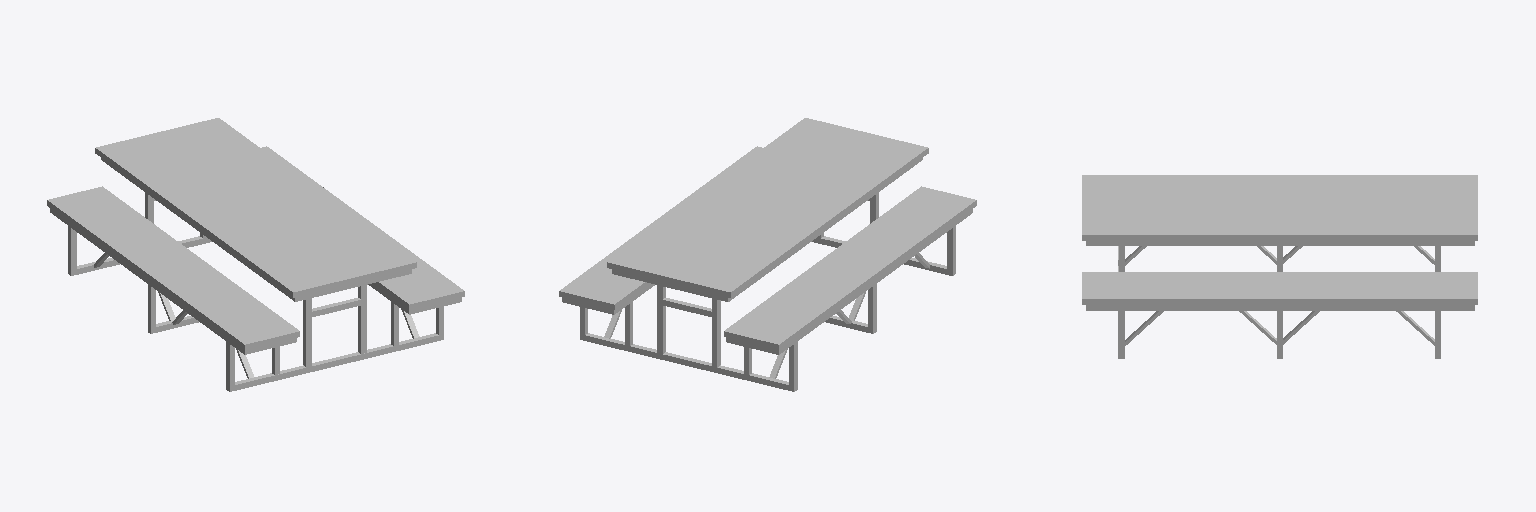
The model's file is CafeteriaTables.obj.
3 renders of one model, left to right at view 1: azimuth 30°, elevation 25°; view 2: azimuth 150°, elevation 25°; view 3: azimuth 270°, elevation 25°, orthographic.
Visible parts, largest first — view 1: pCube8, pCube10, pCube9, pCube26, pCube21, pCube22; view 2: pCube8, pCube10, pCube9, pCube25, pCube19, pCube20; view 3: pCube8, pCube9.
Boxes of the visible parts, x1=… form: pCube8: x1=95, y1=118, x2=416, y2=301; pCube10: x1=47, y1=186, x2=299, y2=354; pCube9: x1=261, y1=146, x2=464, y2=314; pCube26: x1=235, y1=333, x2=439, y2=390; pCube21: x1=303, y1=298, x2=311, y2=367; pCube22: x1=358, y1=285, x2=366, y2=353; pCube8: x1=607, y1=118, x2=928, y2=301; pCube10: x1=724, y1=186, x2=976, y2=354; pCube9: x1=559, y1=146, x2=762, y2=314; pCube25: x1=585, y1=333, x2=788, y2=390; pCube19: x1=712, y1=299, x2=720, y2=372; pCube20: x1=657, y1=285, x2=665, y2=356; pCube8: x1=1082, y1=175, x2=1477, y2=245; pCube9: x1=1082, y1=272, x2=1477, y2=310.
Size of the model in its own units: 8.03 by 3.55 by 12.5.